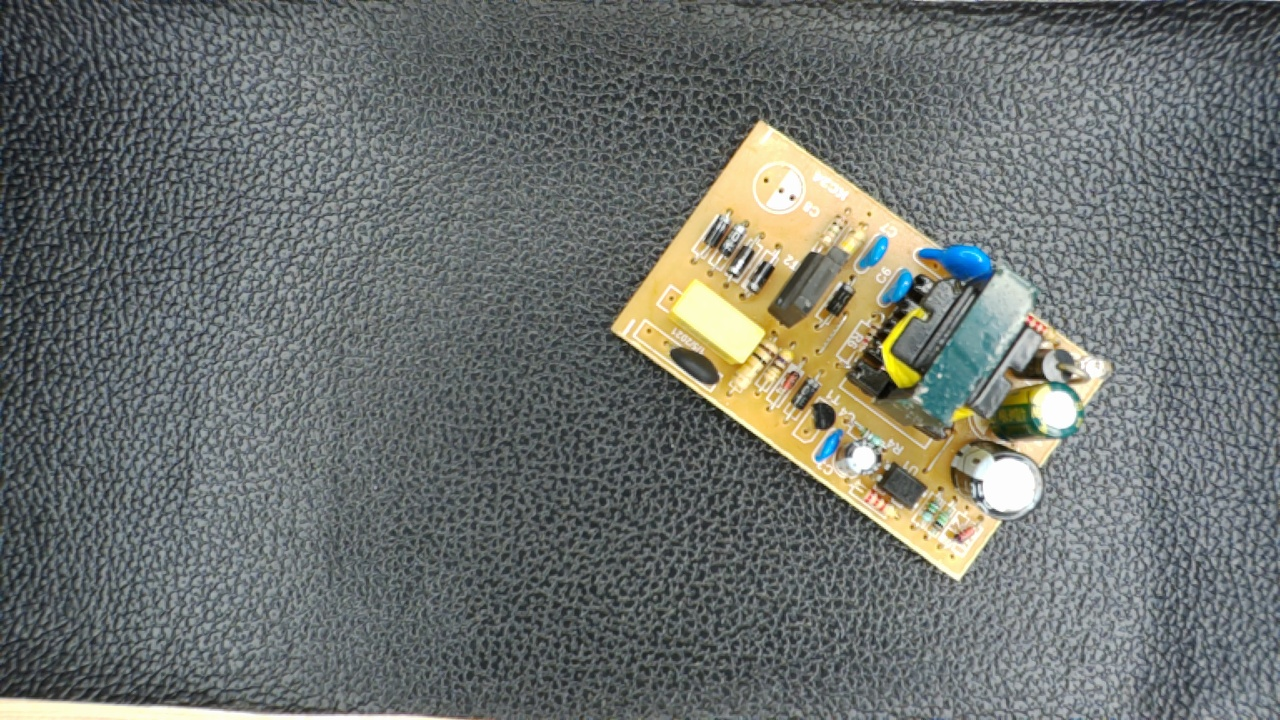fuse: (659, 341, 728, 392)
mov: (912, 237, 998, 282)
optocoupler: (873, 455, 927, 512)
